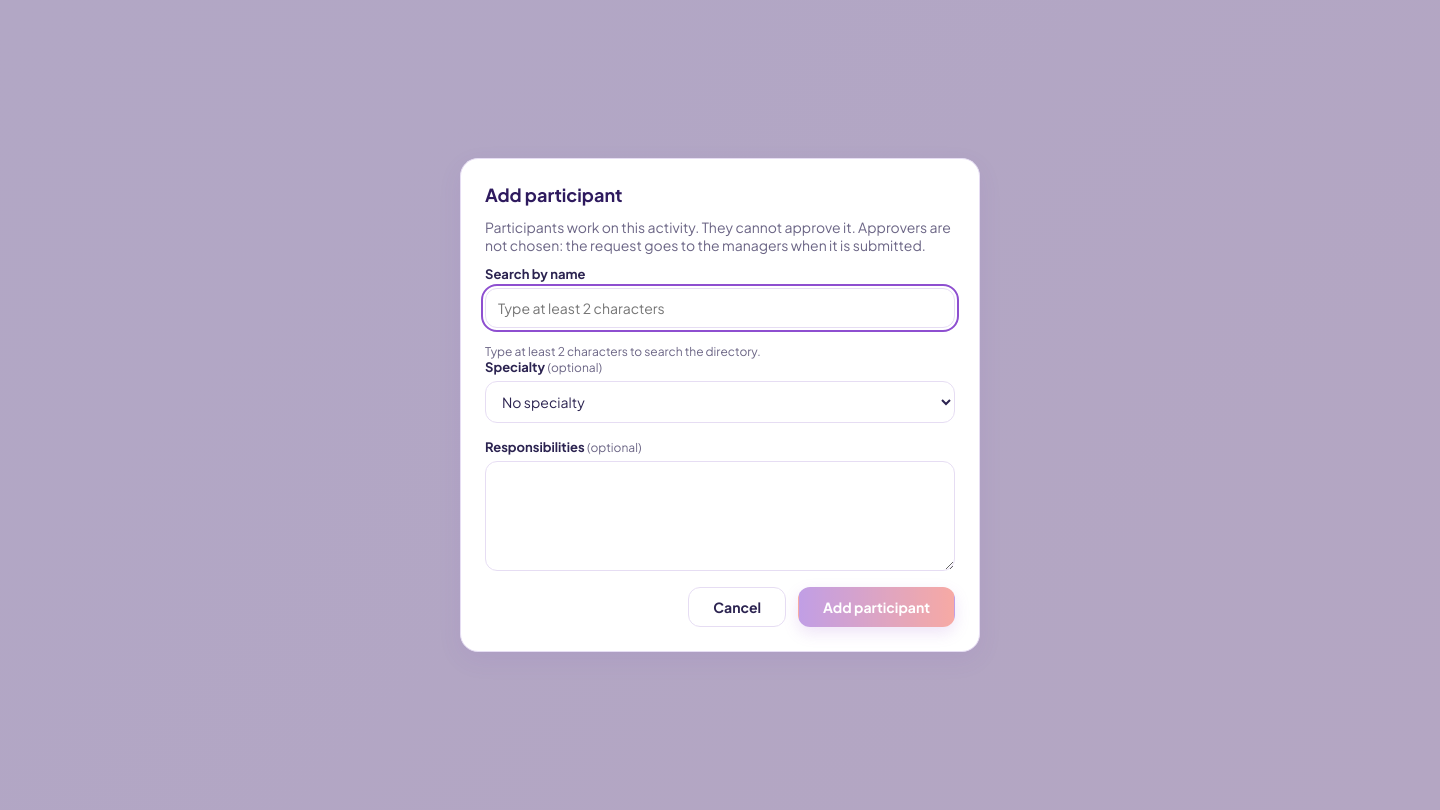
Test: AddMemberDialog › participant: specialty and responsibilities are sent; backend errors are shown
The image size is (1440, 810).
Type "no" into the field labelled "Search by name" at (720, 308), box [485,288,955,328]
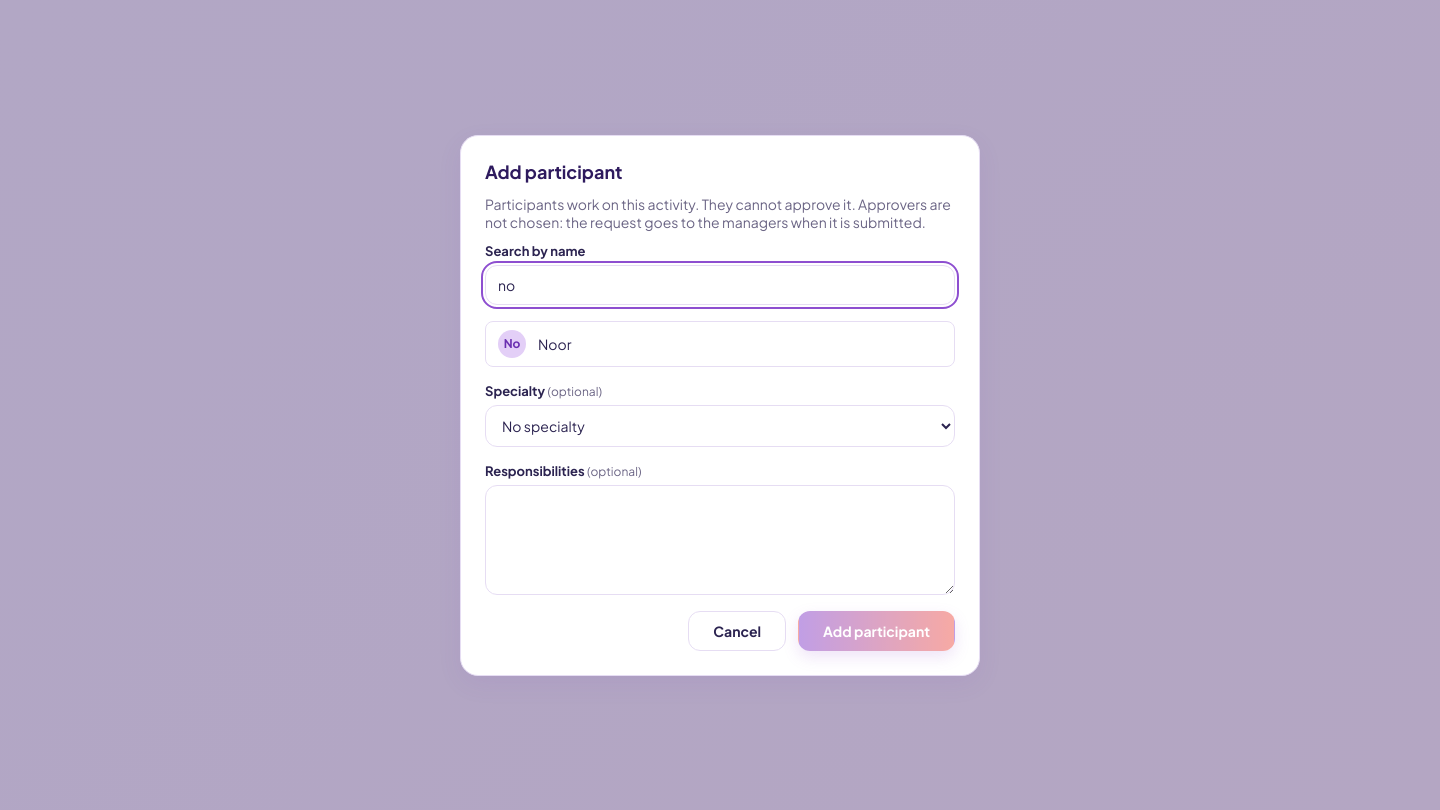
Check: the list is shown
Click the button "No Noor" at (555, 344), box [485,320,955,366]
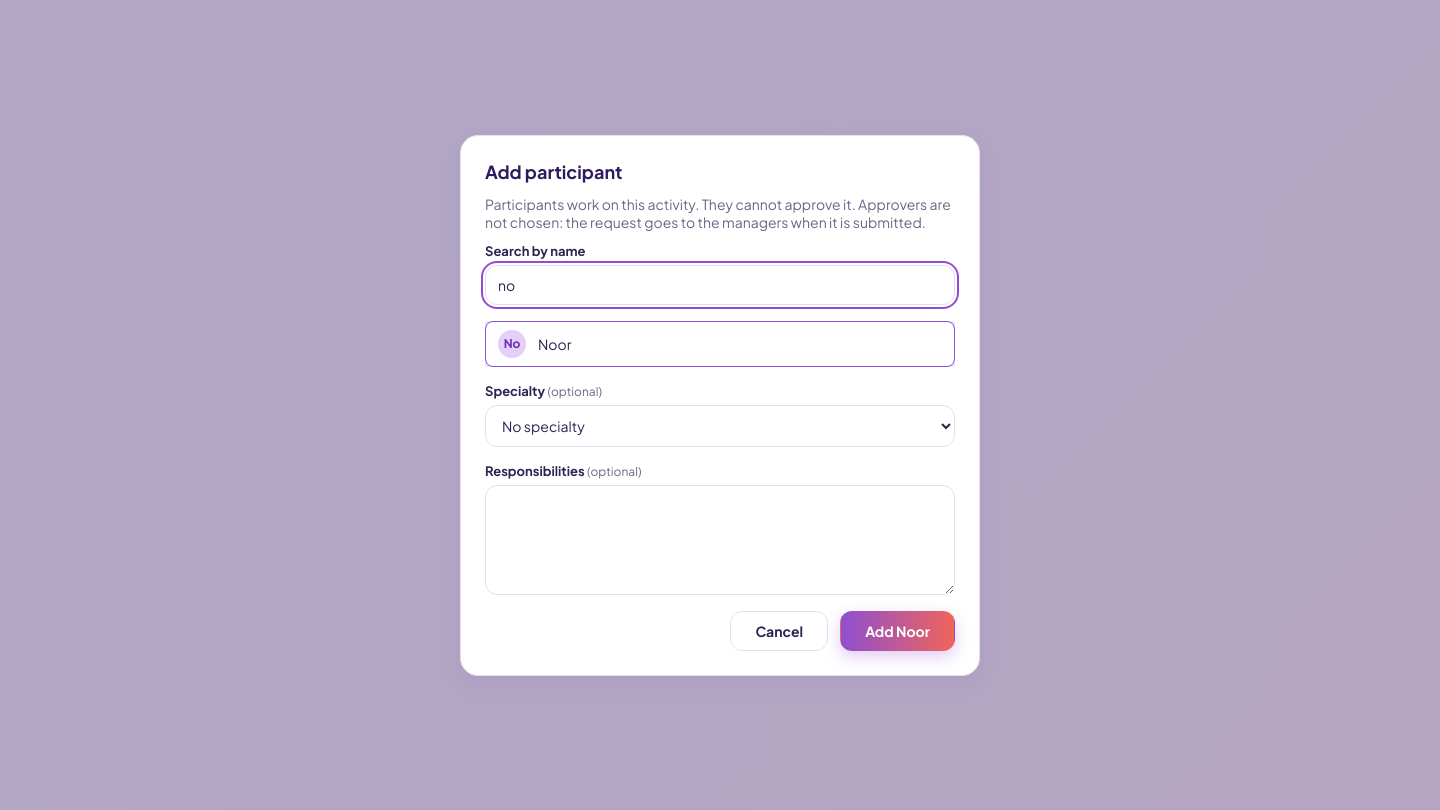
Select "Database" in the dropdown labelled "Specialty (optional)" at (720, 426), box [485,404,955,446]
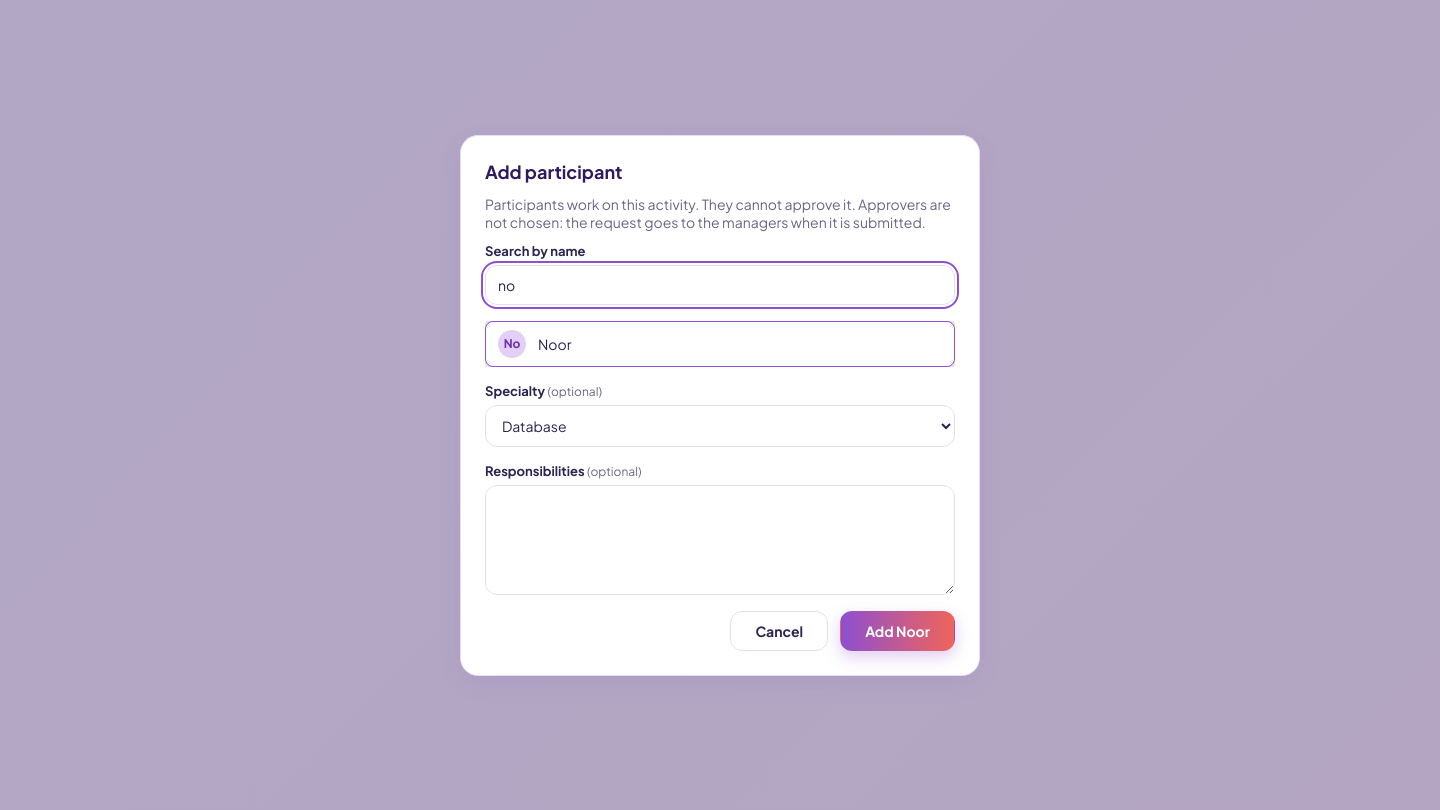
Type "Run backups" into the text box labelled "Responsibilities (optional)" at (720, 540), box [485,484,955,594]
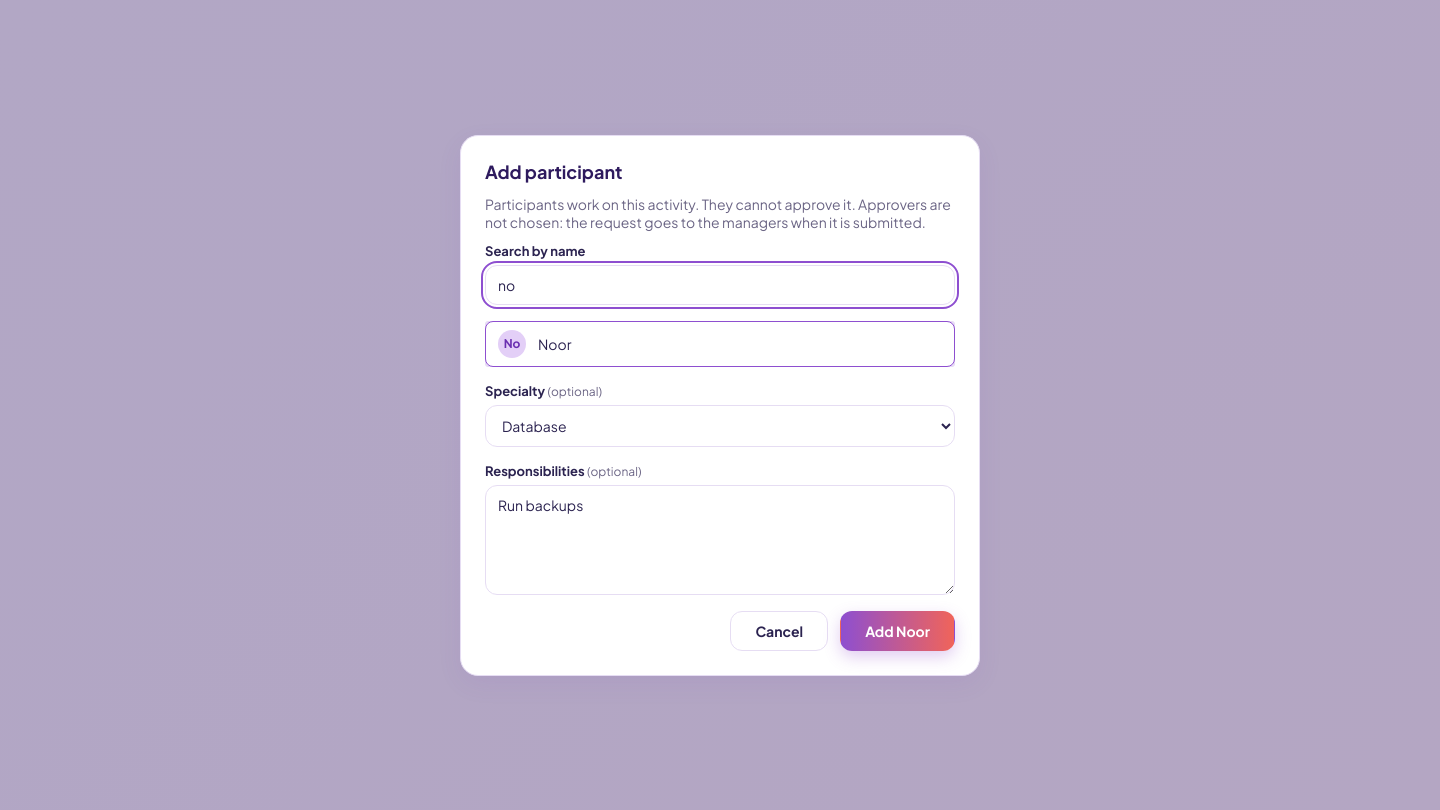
Click the button "Add Noor" at (898, 630), box [840,610,955,650]
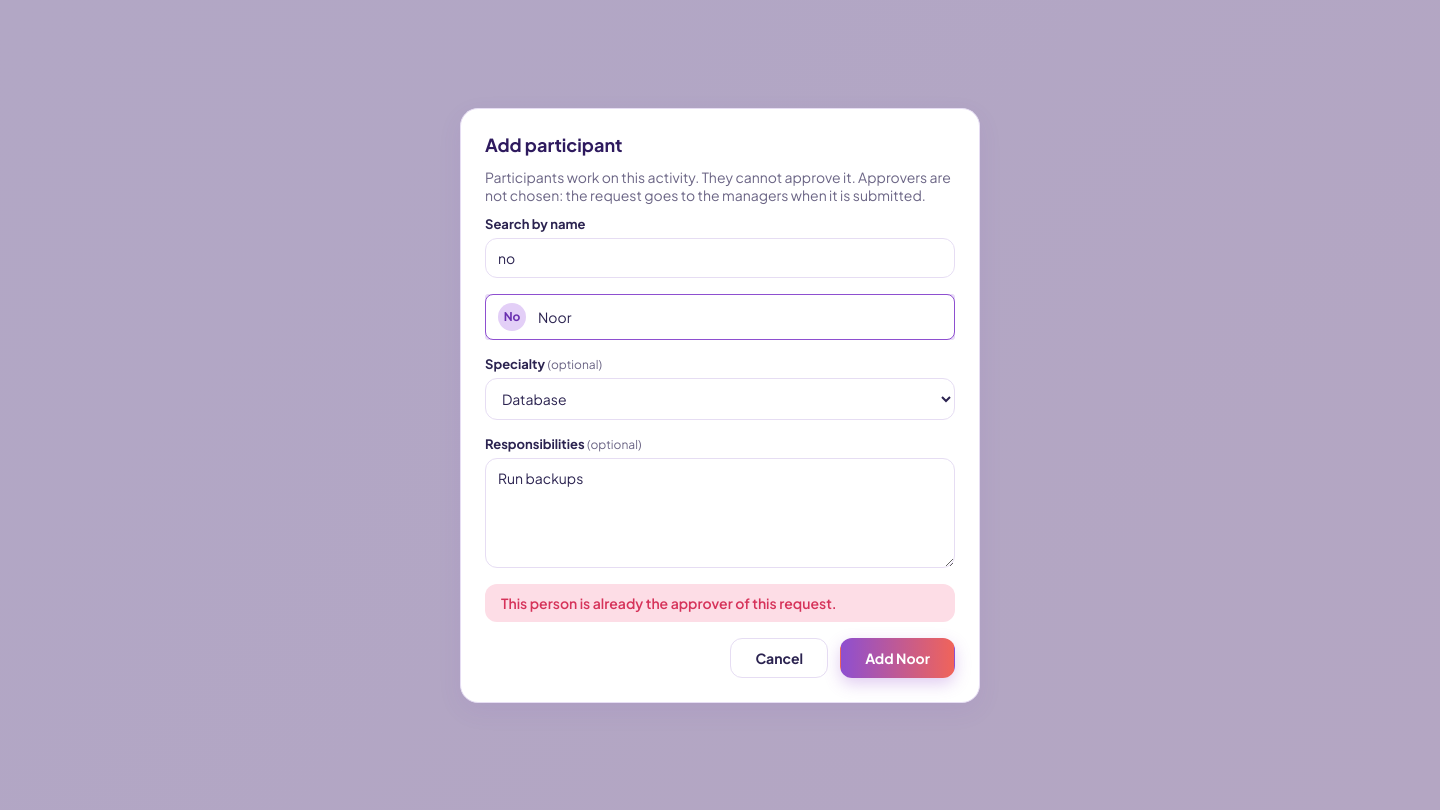
Check: the message shows "already the approver", box [501,594,837,612]
